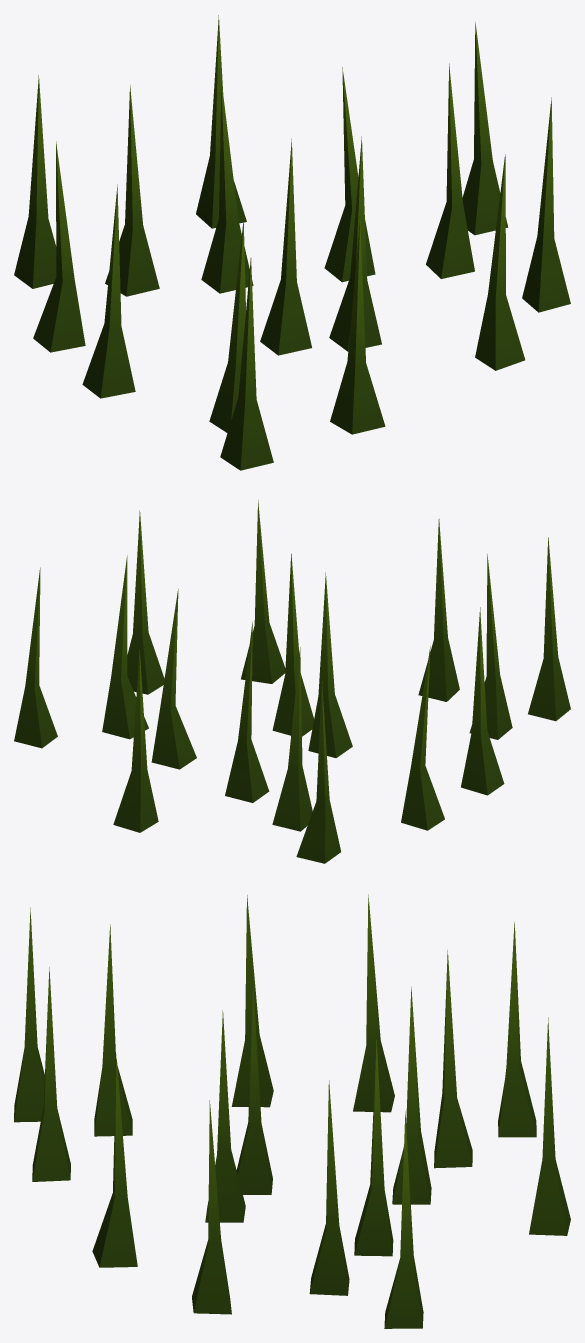
File: Grass.fbx
The picture shows the model from 3 angles, top to bottom: view 1: azimuth 30°, elevation 25°; view 2: azimuth 150°, elevation 25°; view 3: azimuth 270°, elevation 25°; orthographic projection. The views are drawn at different scales.
Visible parts, largest first — view 1: grass; view 2: grass; view 3: grass.
Part boxes in pixels (box(x1,y1,x2,y2)): grass: box(14, 15, 570, 470); grass: box(14, 500, 570, 863); grass: box(14, 894, 570, 1328).
Bounding box in the file's own units: 36.78 × 15 × 36.3.
